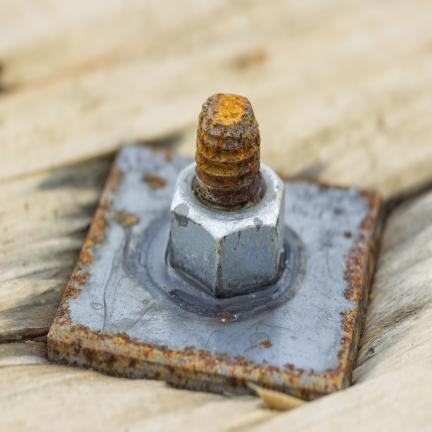karat: (133, 338, 340, 392), (48, 338, 246, 389), (194, 94, 261, 206), (49, 320, 139, 358), (252, 382, 317, 401), (56, 286, 81, 319), (339, 309, 354, 359), (259, 339, 272, 350)
